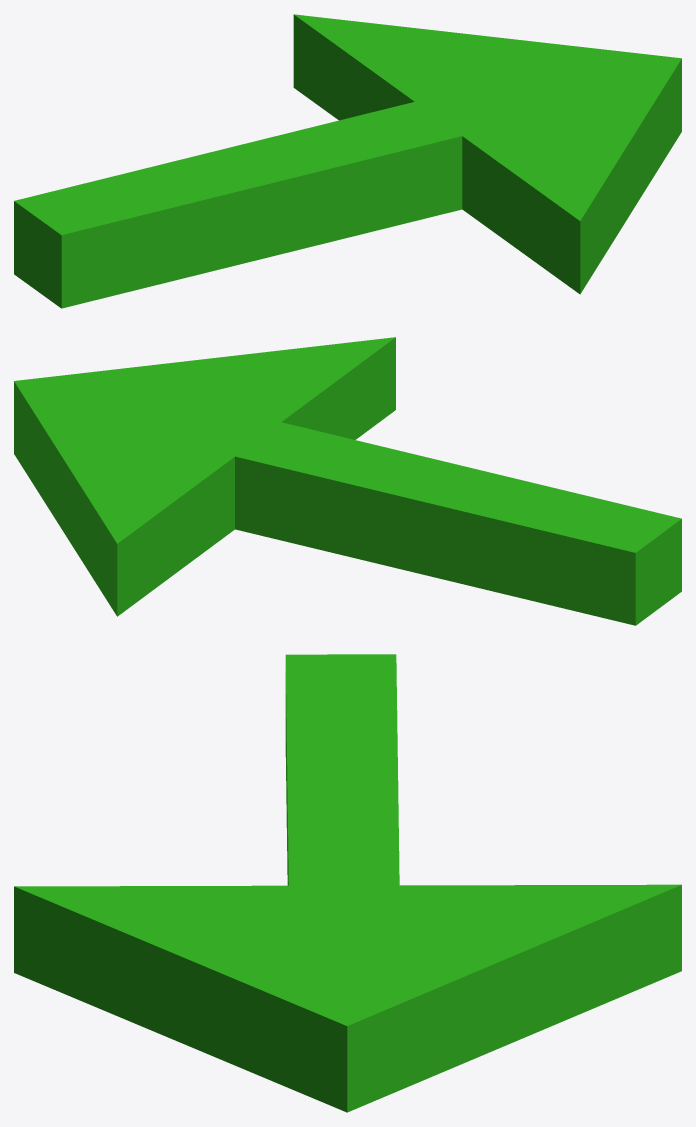
File: Arrow.FBX
The picture shows the model from 3 angles, top to bottom: view 1: azimuth 30°, elevation 25°; view 2: azimuth 150°, elevation 25°; view 3: azimuth 270°, elevation 25°; orthographic projection. The views are drawn at different scales.
Visible parts, largest first — view 1: Prism001; view 2: Prism001; view 3: Prism001.
Part boxes in pixels (x1,y1,x2,y2): Prism001: [14, 14, 681, 308]; Prism001: [14, 337, 681, 625]; Prism001: [14, 654, 681, 1112].
Bounding box in the file's own units: 24.5 × 2.66 × 18.6.
Materials: 1 (1 with a texture image).
